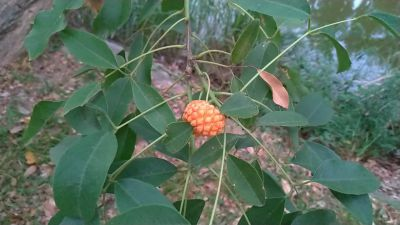eggs: (185, 97, 223, 139)
